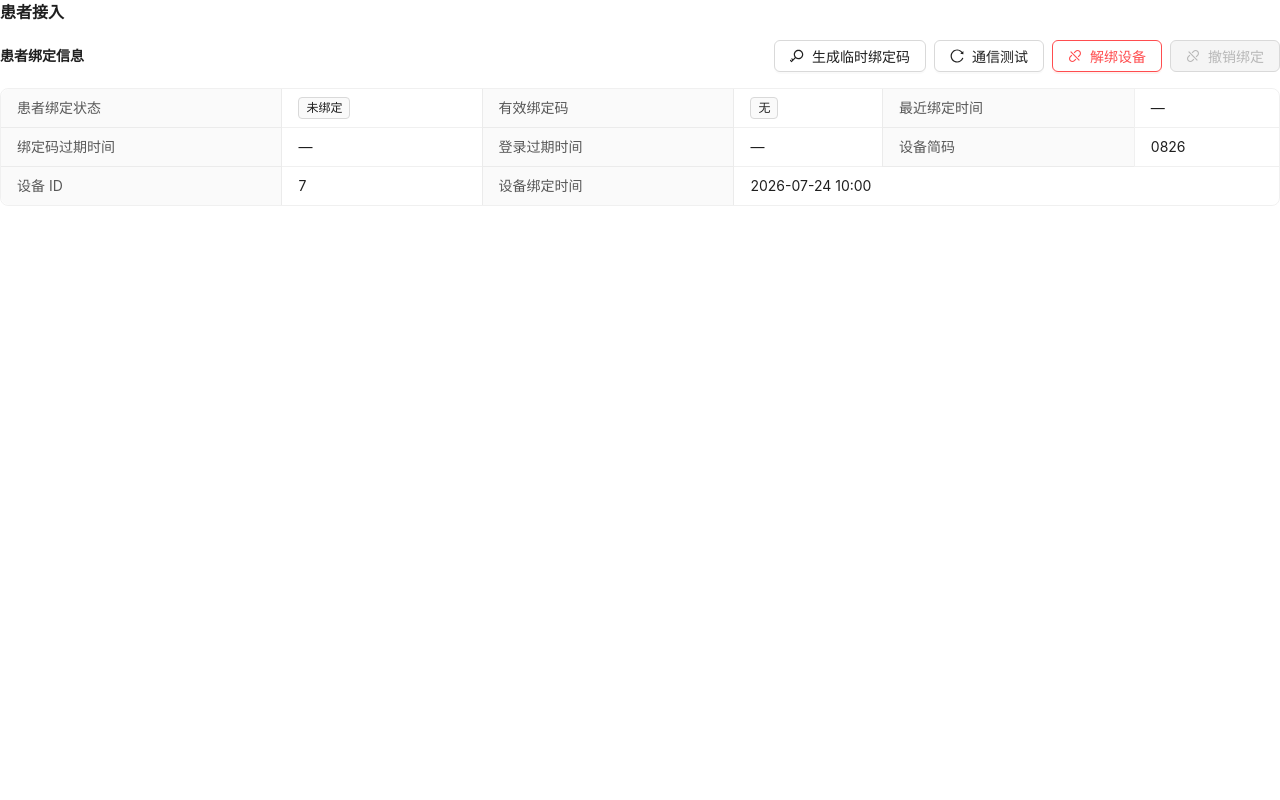
it: ProjectPatientBindingCard › 解绑设备后在同一表格清空设备字段并恢复同一操作区绑定入口
This screenshot has width=1280, height=800.
Click the button "通信测试".
click(989, 56)  # box [934, 40, 1044, 72]
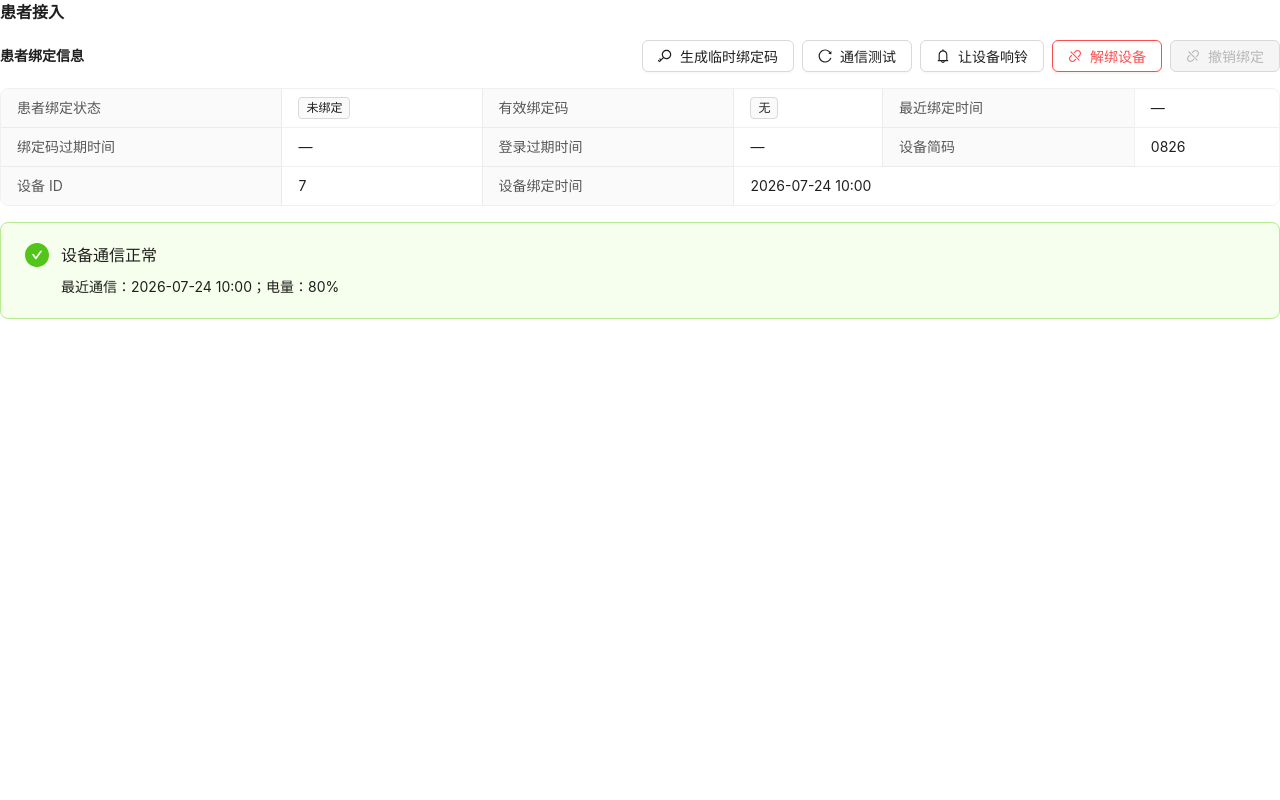
Check: the button "让设备响铃" is shown, box [920, 40, 1044, 72]
Click the button "解绑设备".
click(1107, 56)  # box [1052, 40, 1162, 72]
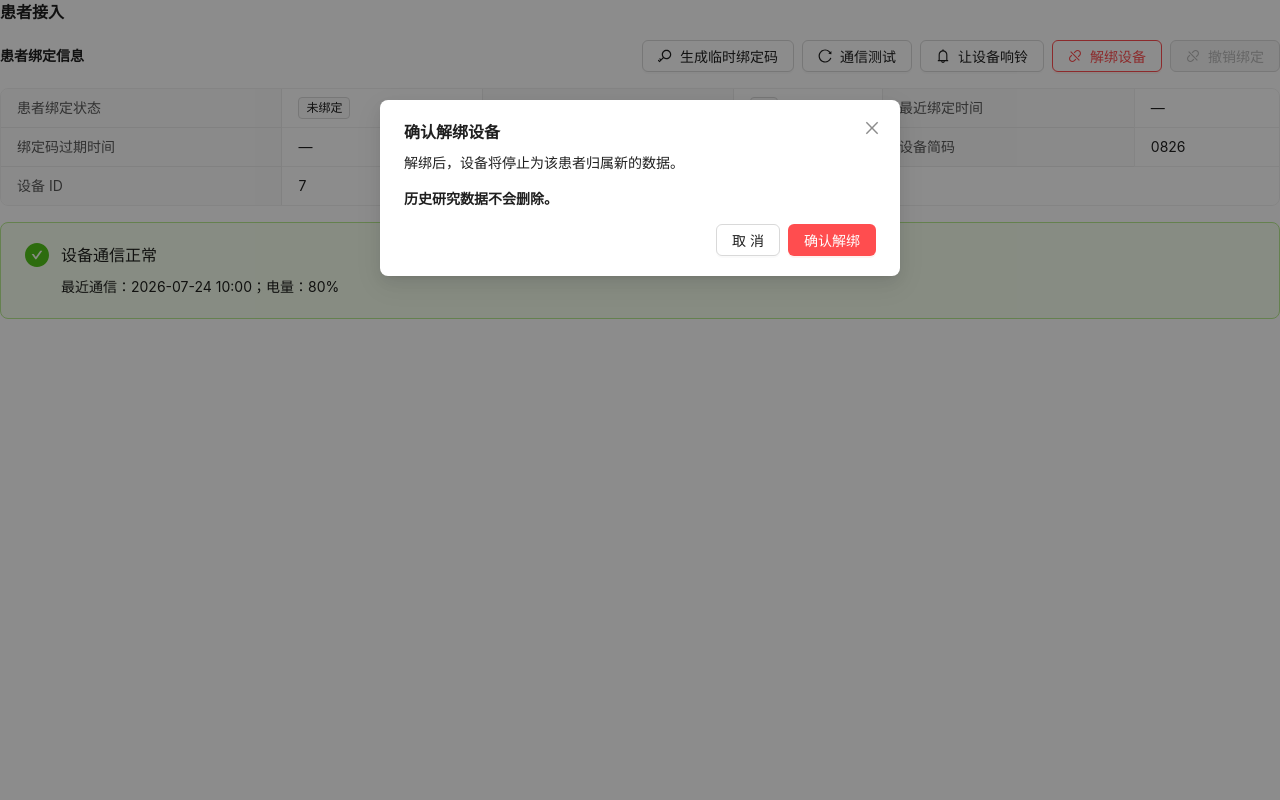
Click the button "确认解绑".
click(832, 240)  # box [788, 224, 876, 256]
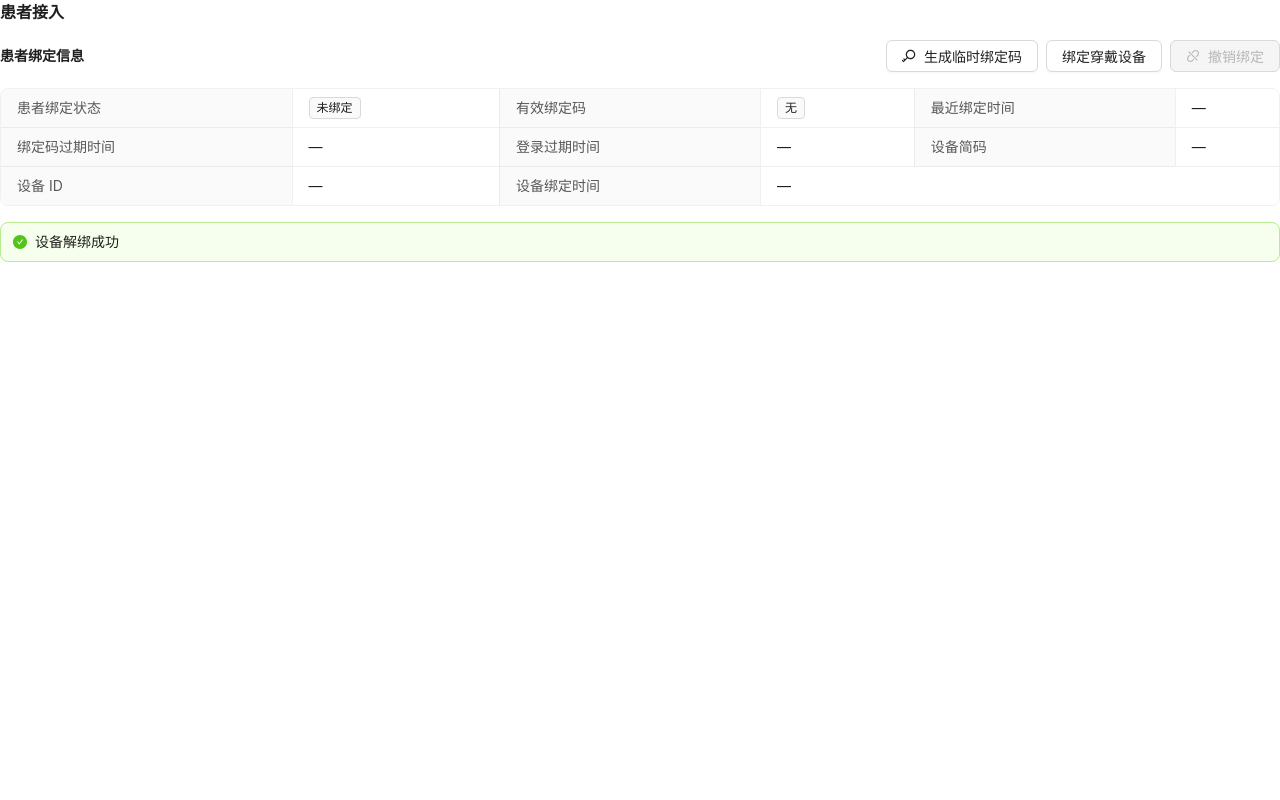
Check: the button "绑定穿戴设备" is shown, box [1046, 40, 1162, 72]
Check: the cell "—" is shown, box [760, 166, 1279, 205]
Check: the button "通信测试" is gone
